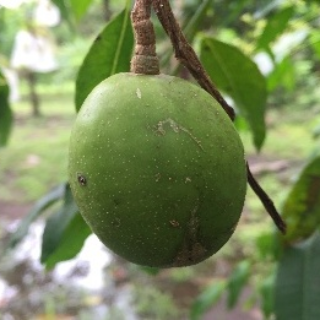coc: (68, 71, 247, 267)
